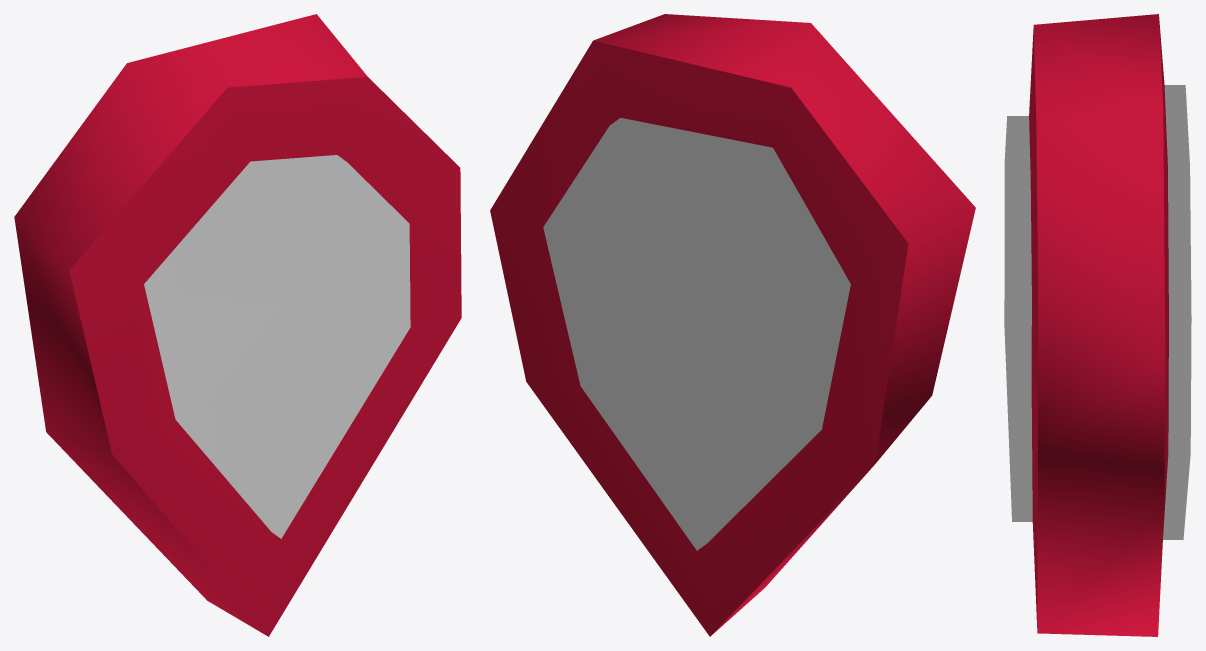
The model's file is asset.glb.
3 renders of one model, left to right at view 1: azimuth 30°, elevation 25°; view 2: azimuth 150°, elevation 25°; view 3: azimuth 270°, elevation 25°, orthographic. The views are drawn at different scales.
Parts seen in each view (by area): view 1: Indicador_01_00; view 2: Indicador_01_00; view 3: Indicador_01_00.
Boxes of the visible parts, <box> form: Indicador_01_00: <box>14,14,461,636</box>; Indicador_01_00: <box>490,14,975,636</box>; Indicador_01_00: <box>1004,14,1191,636</box>.
Size of the model in its own units: 3.9 by 5.14 by 1.47.
Materials: 1 (1 with a texture image).
